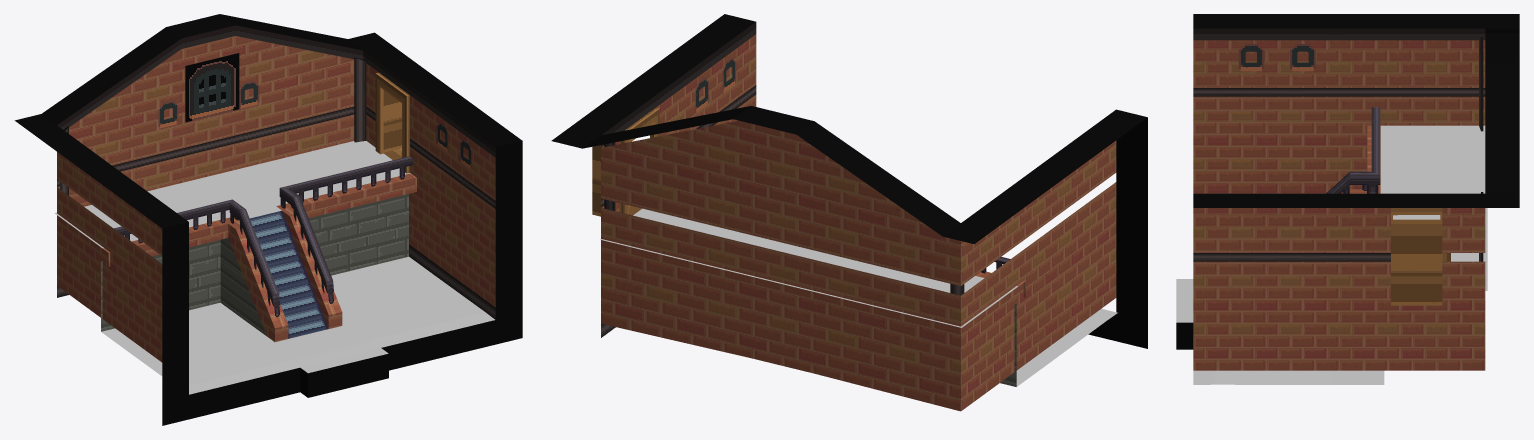
Rendered from ROOM11.obj.
The picture shows the model from 3 angles, left to right: view 1: azimuth 30°, elevation 25°; view 2: azimuth 150°, elevation 25°; view 3: azimuth 270°, elevation 25°; orthographic projection. The views are drawn at different scales.
Visible parts, largest first — view 1: polygon2, polygon7, polygon1, polygon6, polygon3, polygon4, polygon5, polygon0, polygon8, polygon9; view 2: polygon2, polygon7, polygon1, polygon6, polygon8, polygon9; view 3: polygon2, polygon7, polygon1, polygon6, polygon8, polygon4, polygon9.
Boxes of the visible parts, x1,y1,x2,y2 form: polygon2: (57, 36, 495, 362); polygon7: (14, 14, 522, 425); polygon1: (54, 141, 494, 394); polygon6: (57, 25, 495, 319); polygon3: (101, 194, 408, 336); polygon4: (114, 156, 413, 317); polygon5: (250, 210, 328, 338); polygon0: (185, 53, 239, 122); polygon8: (375, 72, 409, 173); polygon9: (158, 81, 471, 169); polygon2: (601, 34, 1116, 411); polygon7: (551, 14, 1147, 348); polygon1: (600, 208, 1117, 386); polygon6: (601, 22, 964, 337); polygon8: (592, 108, 659, 216); polygon9: (695, 57, 736, 112); polygon2: (1193, 40, 1485, 370); polygon7: (1176, 14, 1519, 349); polygon1: (1176, 125, 1487, 384); polygon6: (1193, 28, 1485, 261); polygon8: (1391, 208, 1450, 305); polygon4: (1326, 107, 1380, 193); polygon9: (1238, 44, 1315, 71).
Size of the model in its own units: 3.34 by 2.25 by 2.5.
